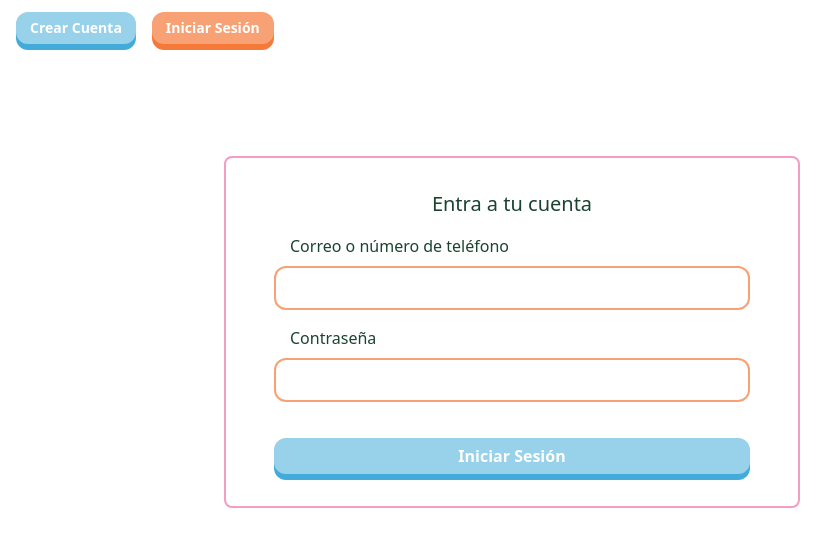
Test: Validación de campos › Los campos son requeridos › El identifier es requerido
Focus the field with id "identifier" at (512, 288), box [274,266,750,310]
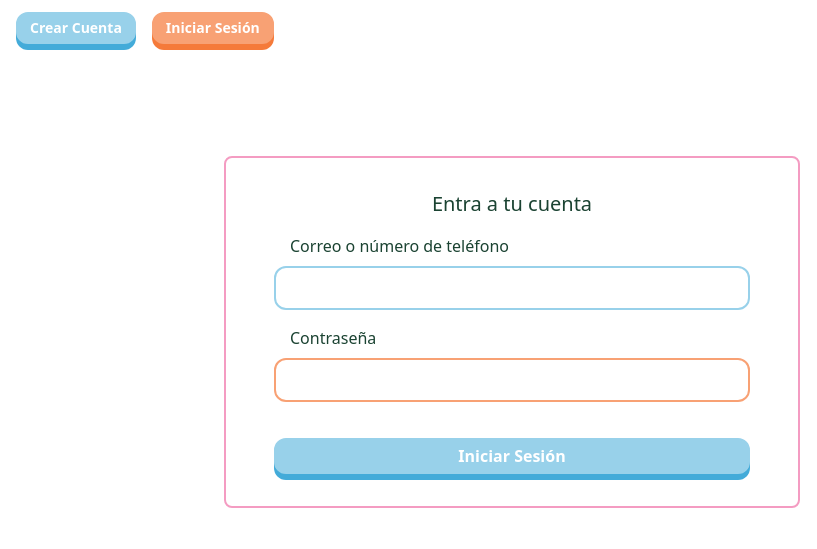
Leave the field with id "identifier", box [274,266,750,310]
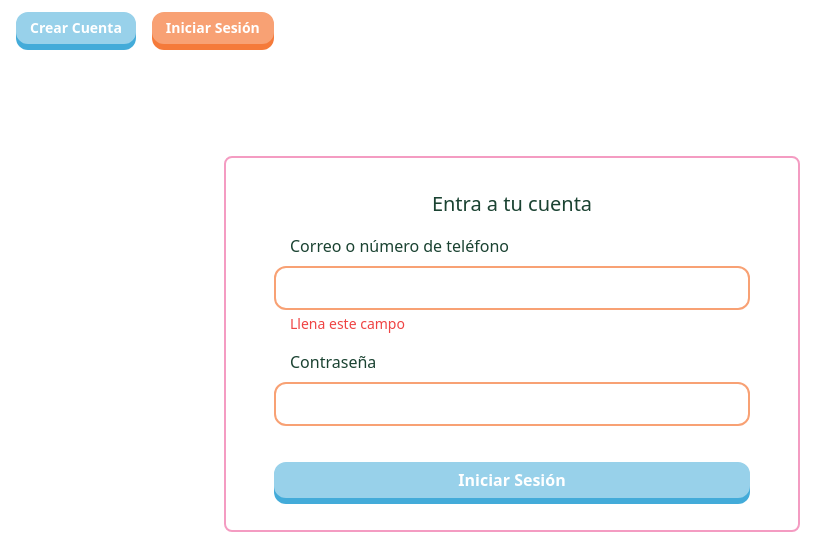
Expected: the text "Llena este campo" is shown, [290,314,405,333]
